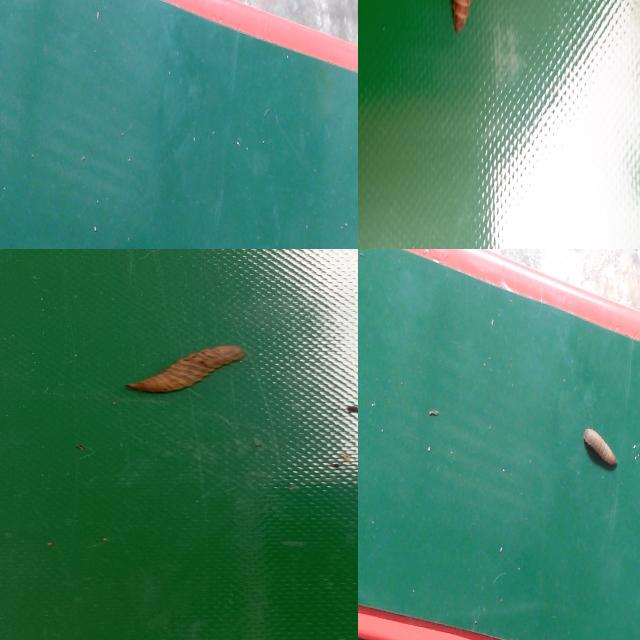Maggot: (125, 346, 245, 394), (582, 428, 618, 473)
